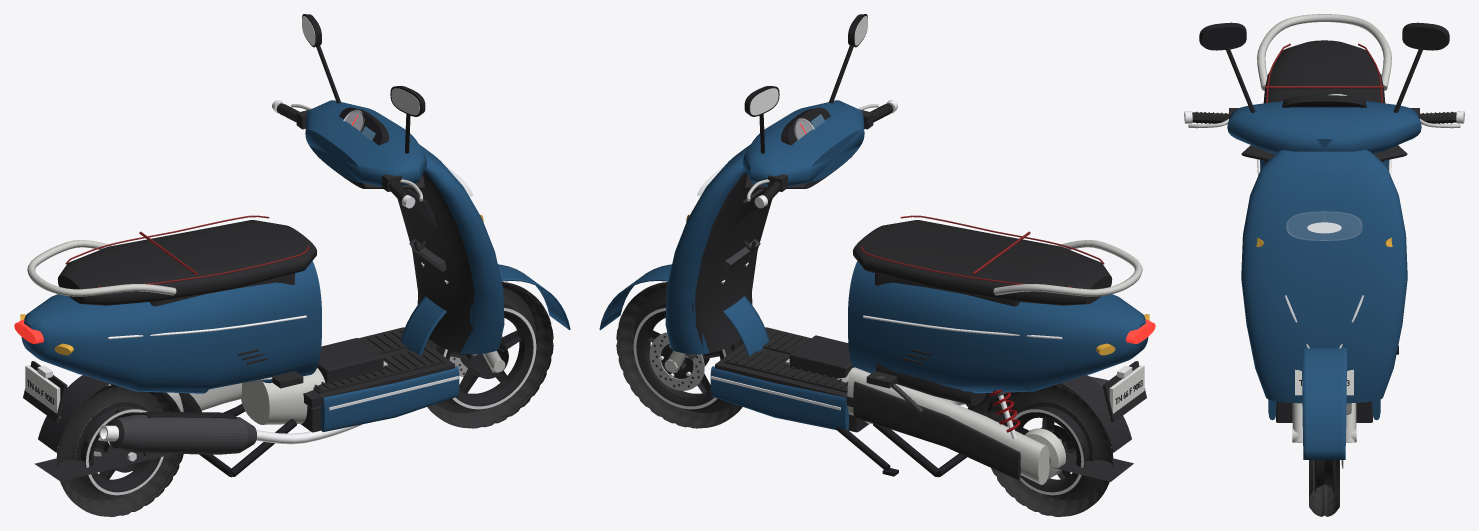
The model's file is scooter_commuter.glb.
3 renders of one model, left to right at view 1: azimuth 30°, elevation 25°; view 2: azimuth 150°, elevation 25°; view 3: azimuth 270°, elevation 25°, orthographic. The views are drawn at different scales.
Visible parts, largest first — view 1: Body, Details, Blackwork, Handlebar, Engine, WR_Wheel, WF_Wheel, Brightwork, Grip; view 2: Body, Blackwork, Details, Handlebar, WR_Wheel, WF_Wheel, Engine, Brightwork, Grip; view 3: Body, Handlebar, Details, Brightwork, WF_Wheel, Grip, Blackwork.
Boxes of the visible parts, x1=… form: Body: x1=21, y1=144, x2=504, y2=431; Details: x1=25, y1=166, x2=472, y2=417; Blackwork: x1=23, y1=172, x2=474, y2=481; Handlebar: x1=291, y1=14, x2=570, y2=372; Engine: x1=109, y1=361, x2=387, y2=454; WR_Wheel: x1=56, y1=384, x2=183, y2=516; WF_Wheel: x1=426, y1=282, x2=553, y2=428; Brightwork: x1=27, y1=240, x2=458, y2=444; Grip: x1=272, y1=100, x2=415, y2=208; Body: x1=665, y1=144, x2=1148, y2=430; Blackwork: x1=692, y1=172, x2=1146, y2=481; Details: x1=697, y1=166, x2=1144, y2=432; Handlebar: x1=599, y1=14, x2=878, y2=372; WR_Wheel: x1=987, y1=384, x2=1113, y2=516; WF_Wheel: x1=616, y1=282, x2=743, y2=428; Engine: x1=785, y1=359, x2=1108, y2=484; Brightwork: x1=711, y1=240, x2=1142, y2=439; Grip: x1=754, y1=100, x2=897, y2=208; Body: x1=1241, y1=150, x2=1407, y2=420; Handlebar: x1=1188, y1=22, x2=1460, y2=459; Details: x1=1263, y1=40, x2=1385, y2=395; Brightwork: x1=1257, y1=14, x2=1391, y2=348; WF_Wheel: x1=1309, y1=460, x2=1343, y2=516; Grip: x1=1184, y1=111, x2=1464, y2=124; Blackwork: x1=1276, y1=345, x2=1398, y2=422.
Bounding box in the file's own units: 1.87 × 1.34 × 0.8088.
